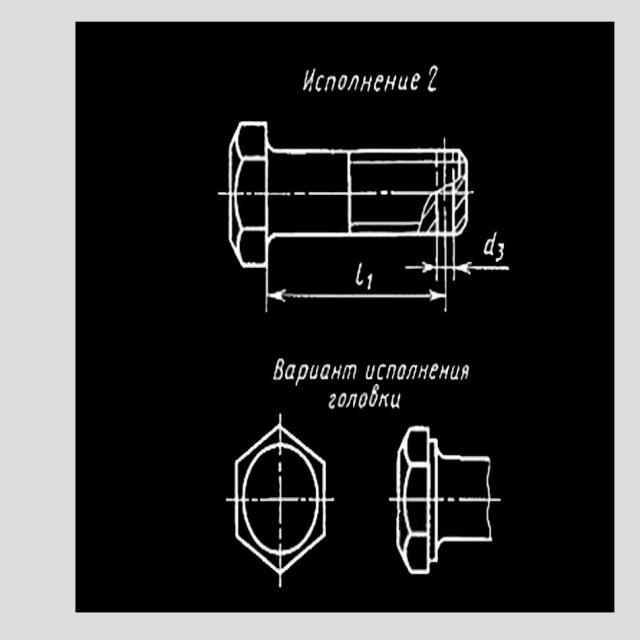marking_line: (266, 288, 445, 304), (456, 261, 515, 277), (406, 261, 437, 277)
numeric: (426, 65, 439, 93)
